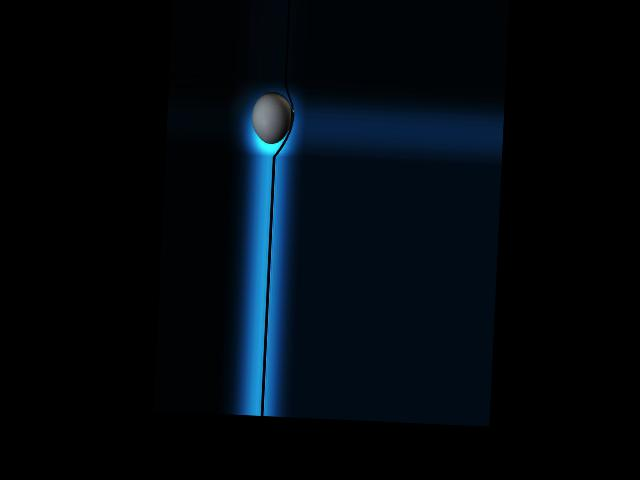egg: (251, 90, 292, 144)
